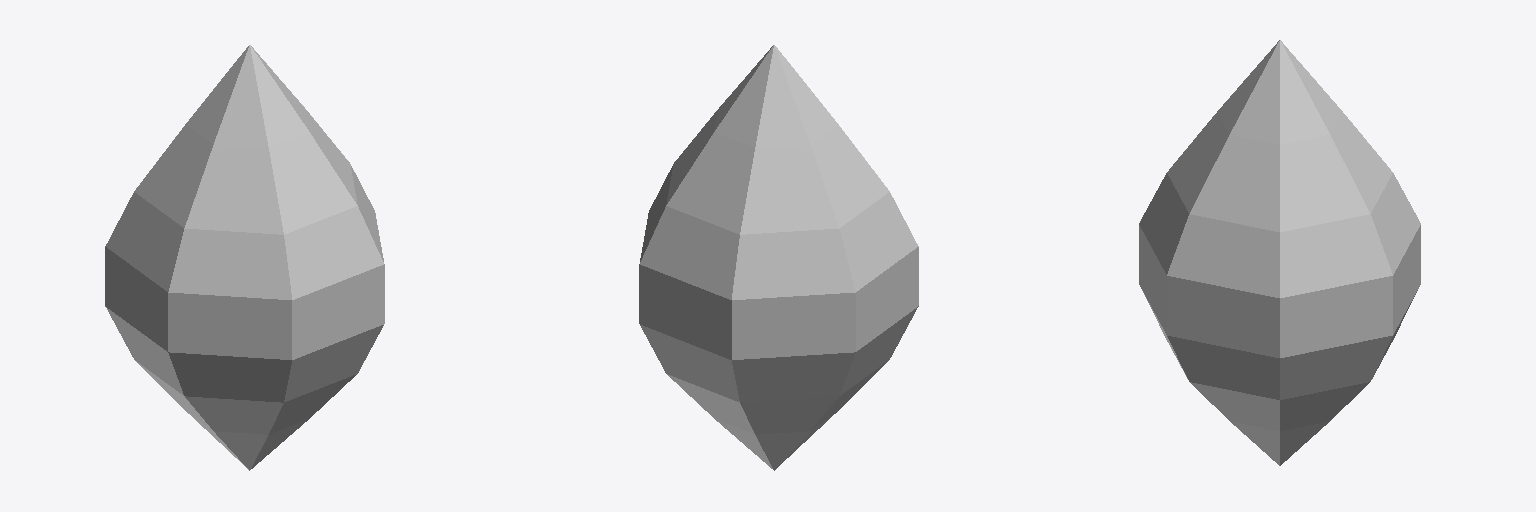
The model's file is magicWand_core.obj.
3 views of the same model, side by side, from view 1: azimuth 30°, elevation 25°; view 2: azimuth 150°, elevation 25°; view 3: azimuth 270°, elevation 25° (orthographic).
Parts seen in each view (by area): view 1: magicWand_core; view 2: magicWand_core; view 3: magicWand_core.
Boxes of the visible parts, box(x1,y1,x2,y2) form: magicWand_core: box(105, 45, 384, 470); magicWand_core: box(639, 45, 918, 470); magicWand_core: box(1139, 40, 1420, 465).
Size of the model in its own units: 0.2868 by 0.4906 by 0.2941.